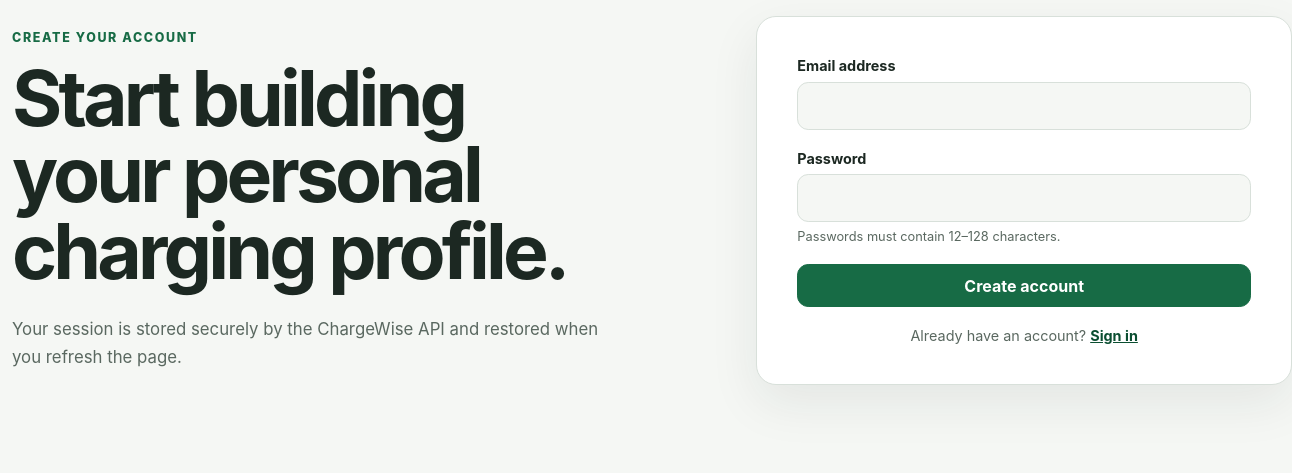
authentication UI flow › validates credentials before sending registration
Type "driver@example.com" into the field labelled "Email address" at (1024, 106), box left=797, top=82, right=1251, bottom=130
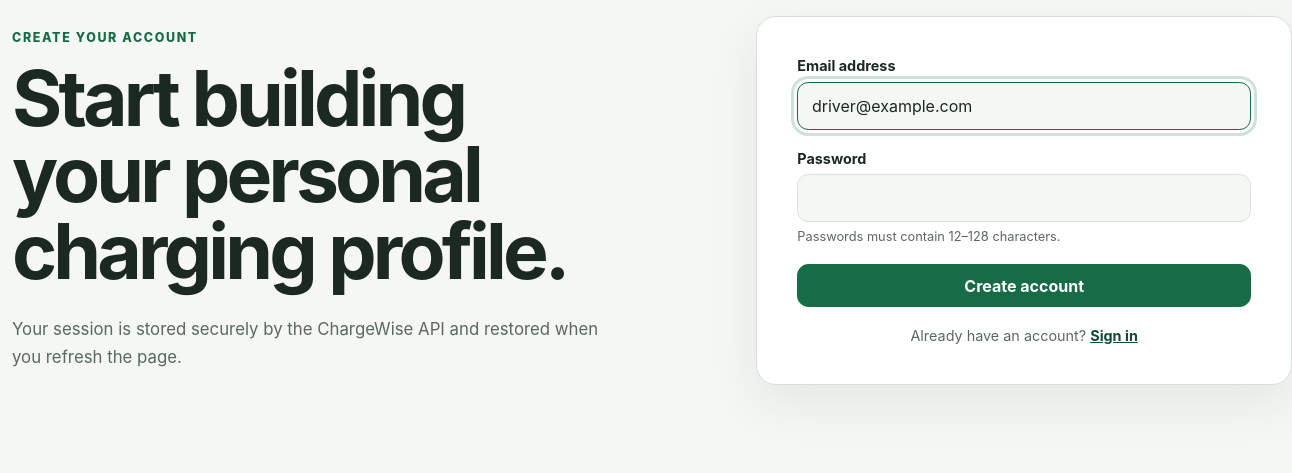
Type "short" into the password field labelled "Password" at (1024, 198), box left=797, top=174, right=1251, bottom=222
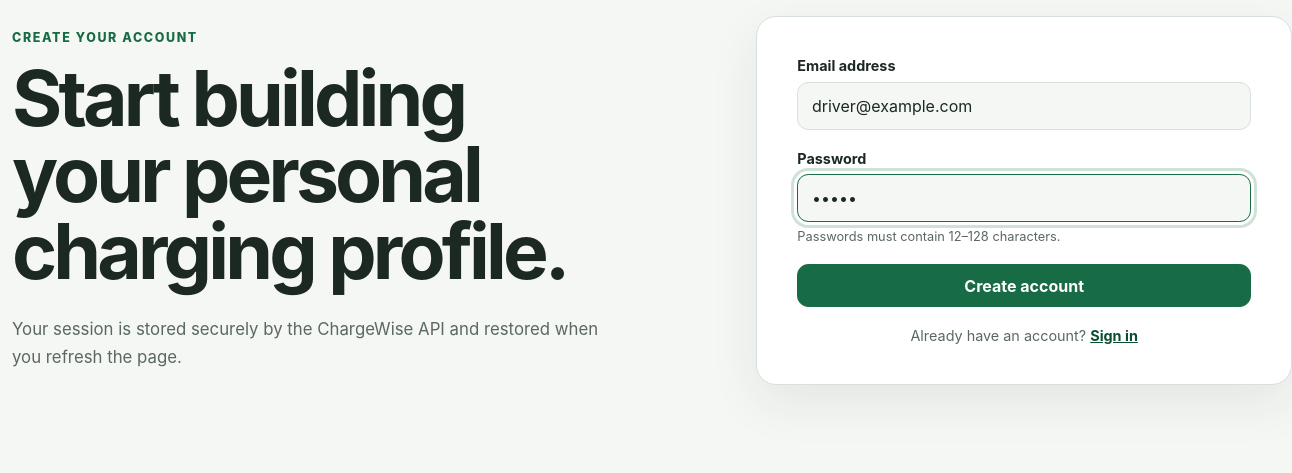
Click the button "Create account" at (1024, 286), box left=797, top=264, right=1251, bottom=307
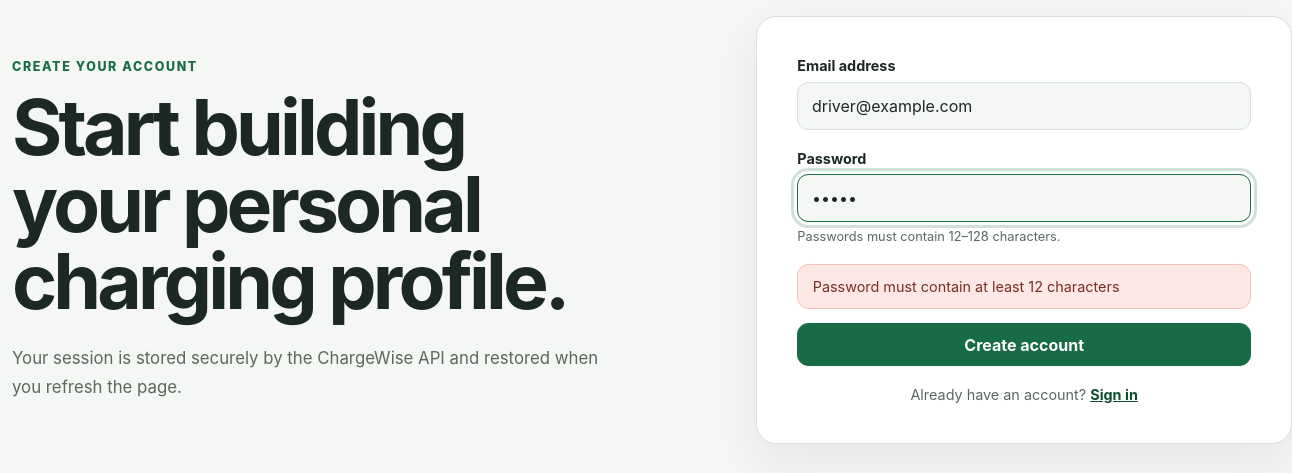
Check: the message reads "Password must contain at least 12 characters", box left=813, top=278, right=1120, bottom=295
